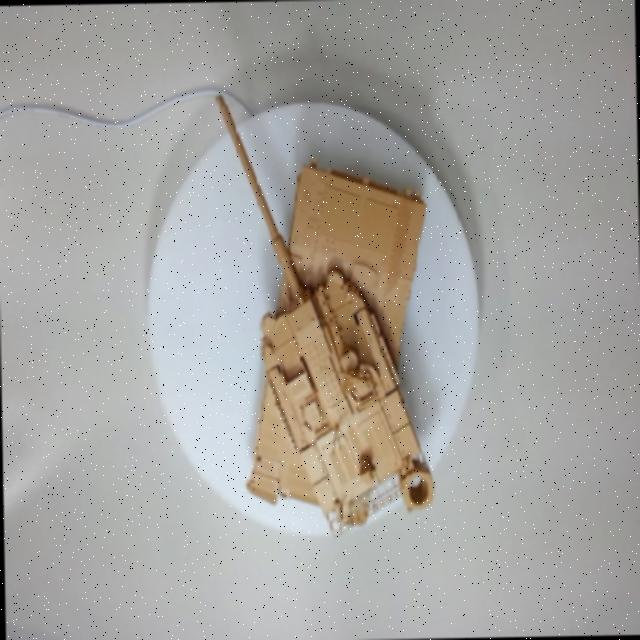korea tank: (116, 100, 493, 551)
